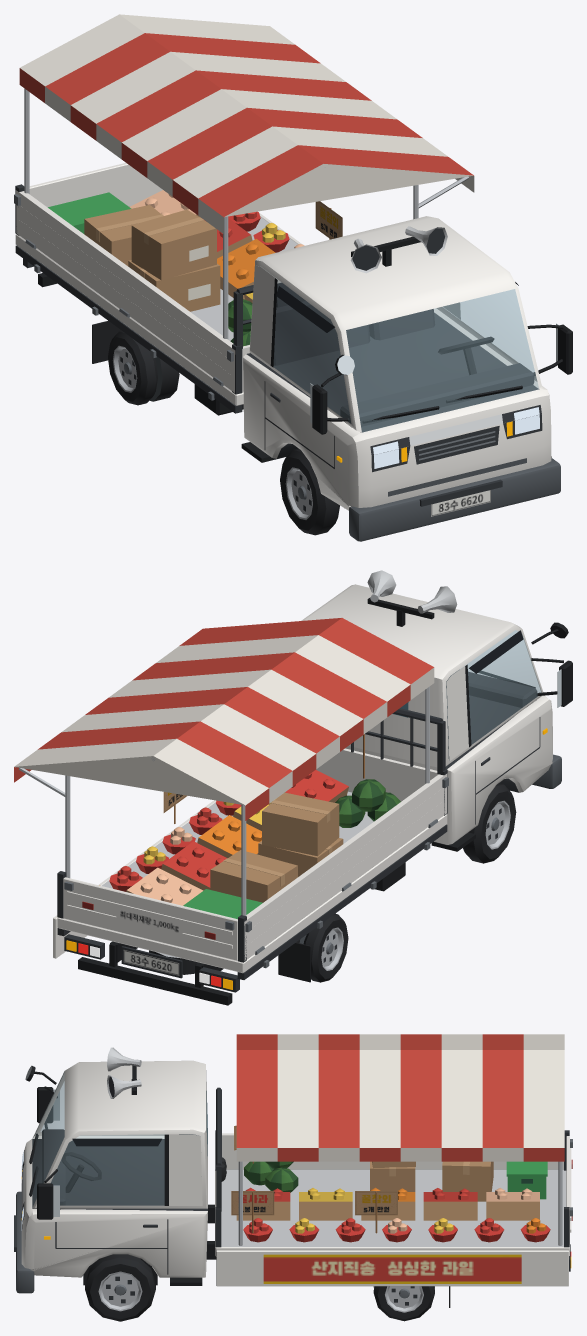
File: SC_Veh_Truck_1Ton_Fruit.gltf
3 renders of one model, top to bottom at view 1: azimuth 30°, elevation 25°; view 2: azimuth 150°, elevation 25°; view 3: azimuth 270°, elevation 25°, orthographic. The views are drawn at different scales.
Visible parts, largest first — view 1: SC_Veh_Truck_1Ton_Fruit; view 2: SC_Veh_Truck_1Ton_Fruit; view 3: SC_Veh_Truck_1Ton_Fruit.
Boxes of the visible parts, <box> form: SC_Veh_Truck_1Ton_Fruit: <box>14,14,572,541</box>; SC_Veh_Truck_1Ton_Fruit: <box>14,570,572,1005</box>; SC_Veh_Truck_1Ton_Fruit: <box>14,1034,572,1321</box>.
Bounding box in the file's own units: 2.39 × 2.42 × 5.2.
Materials: 4 (4 with a texture image).
